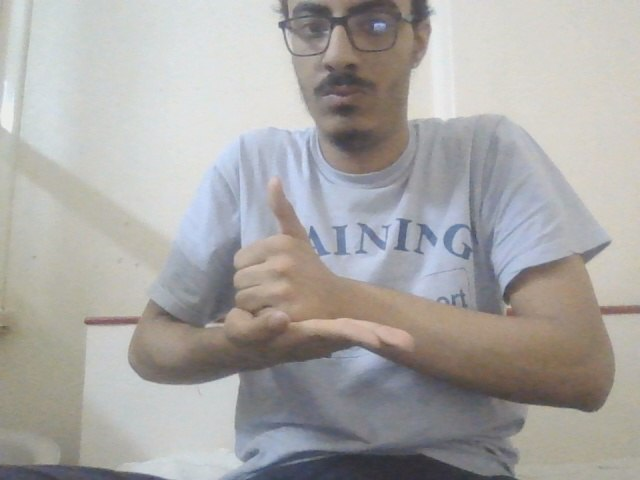Help: (214, 173, 417, 394)
